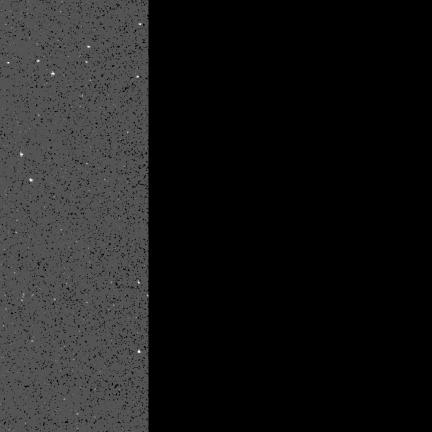blob: (30, 179, 34, 183), (20, 152, 23, 156), (136, 76, 140, 79), (138, 350, 141, 354), (51, 72, 55, 75), (37, 60, 41, 63), (87, 46, 91, 49)
